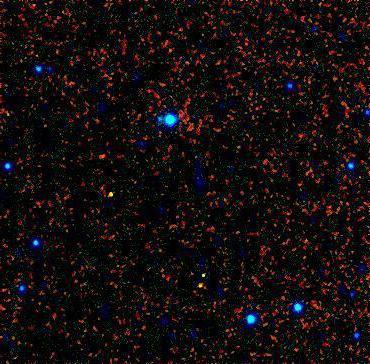star: (91, 139, 121, 169)
